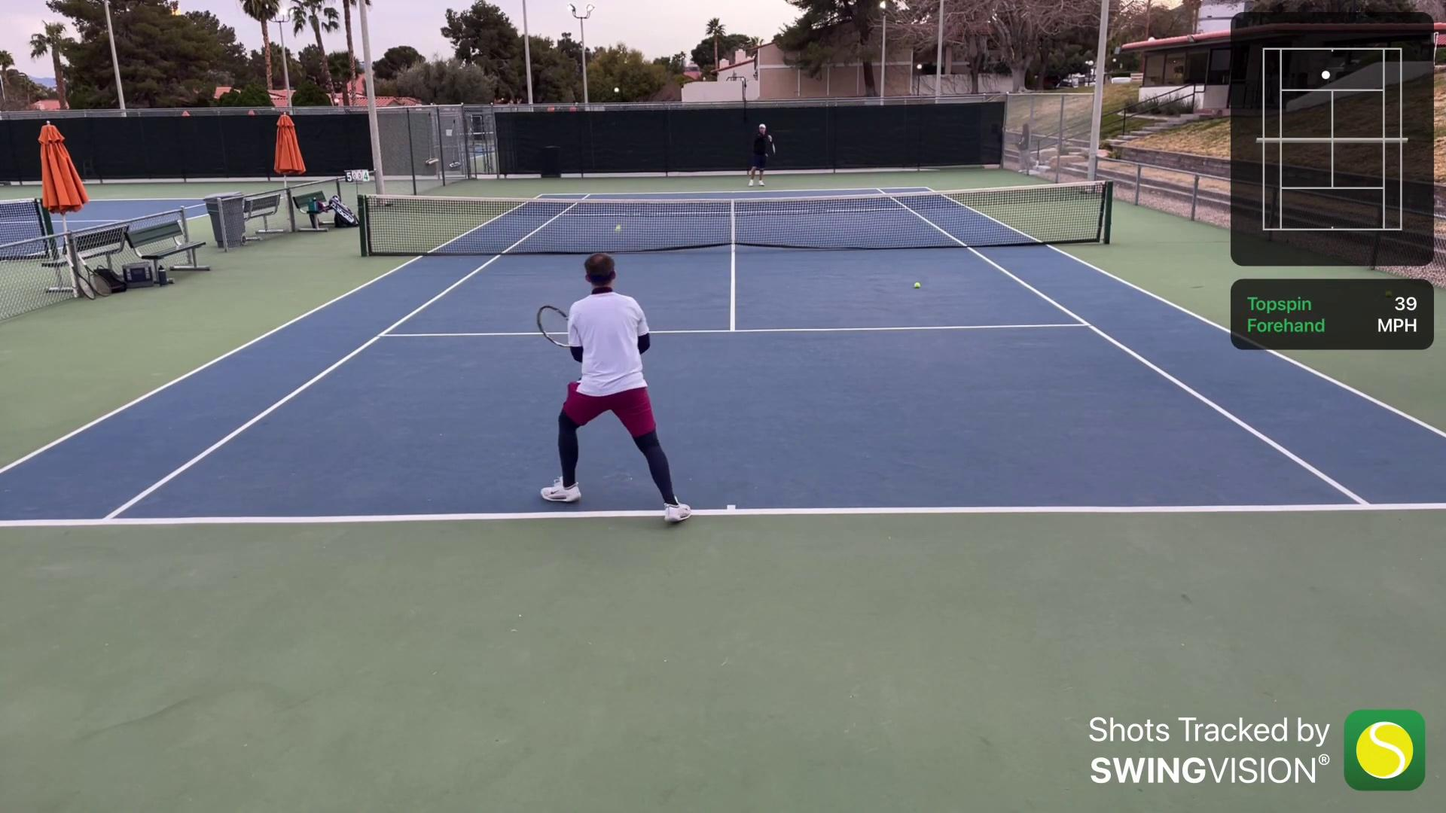ball: (913, 279, 923, 291), (615, 223, 622, 232)
